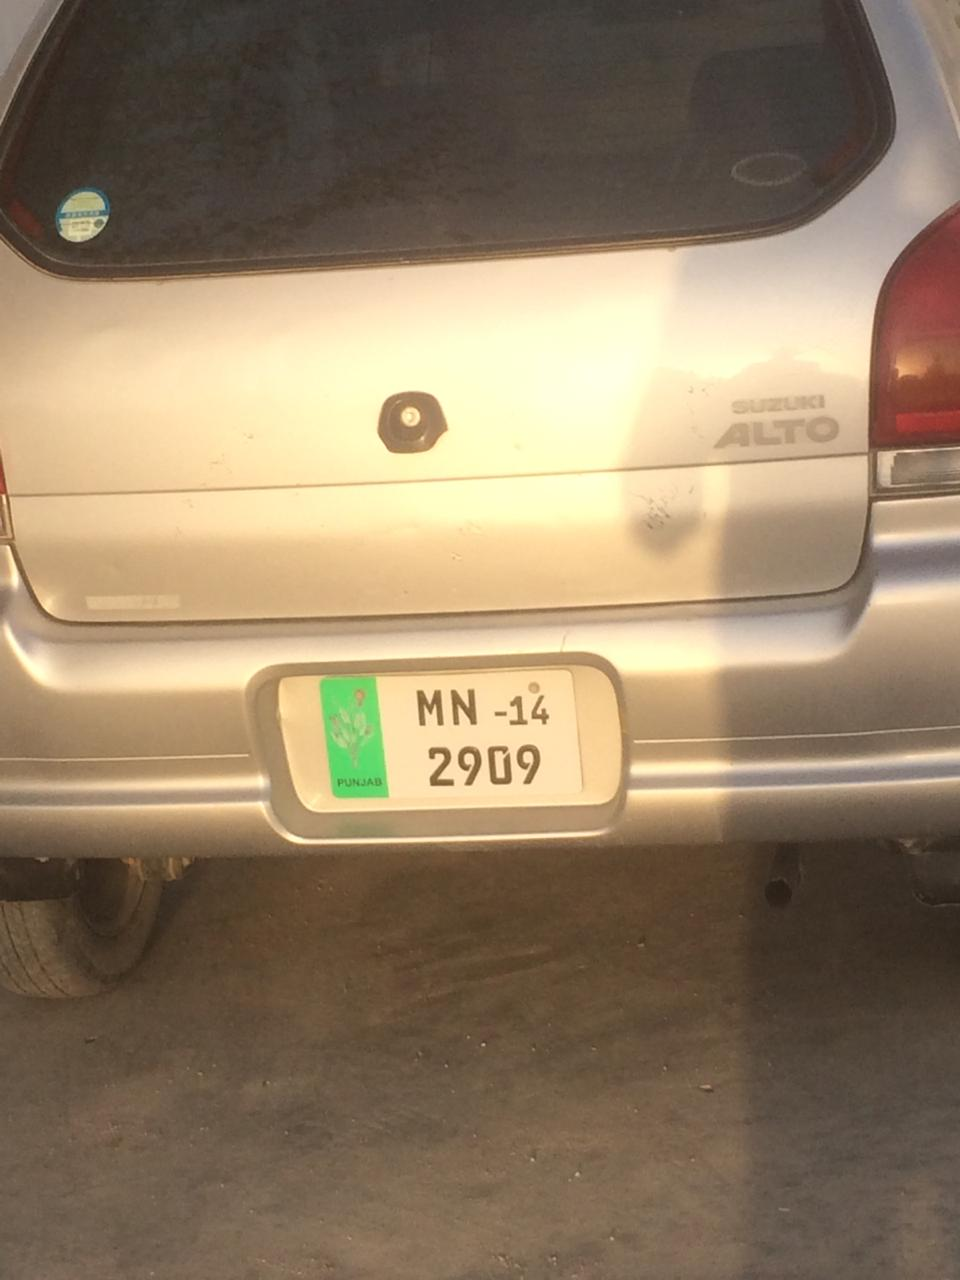license plate: (322, 674, 578, 798)
